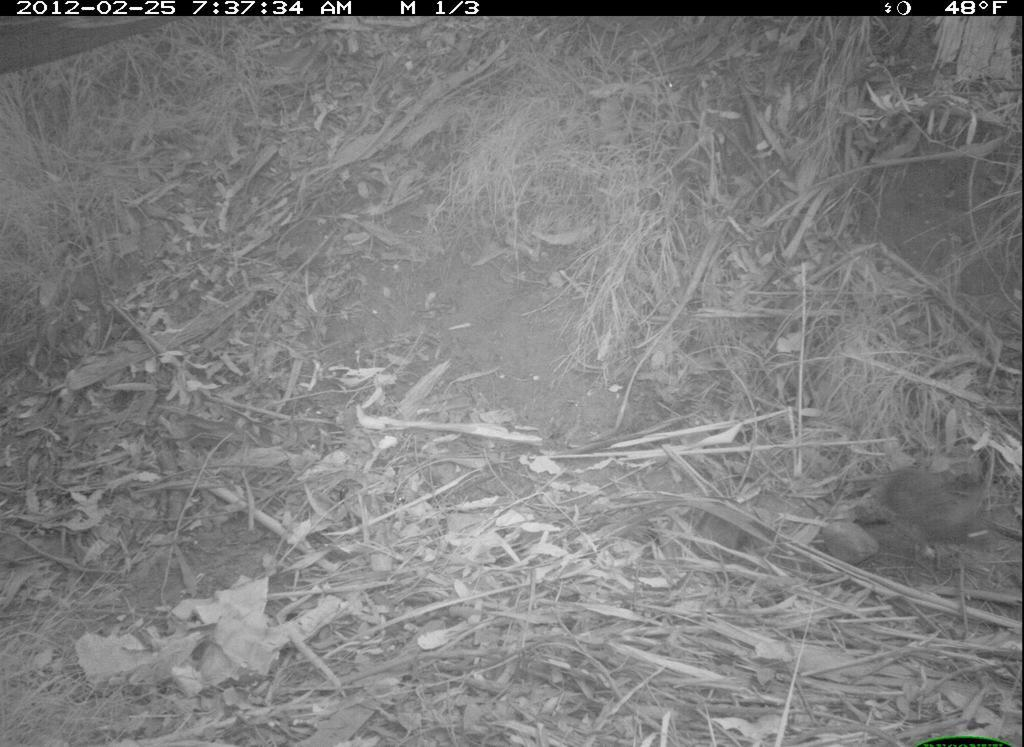rabbit: (862, 445, 1003, 561)
